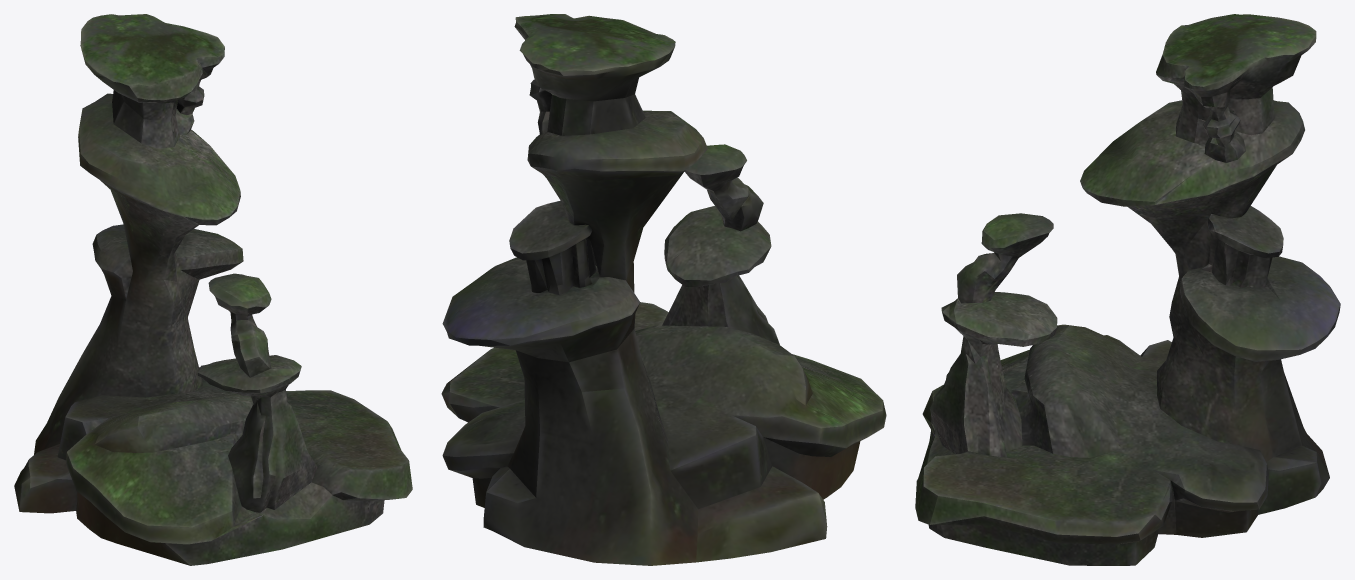
File: BGEAssetsS4.fbx
3 renders of one model, left to right at view 1: azimuth 30°, elevation 25°; view 2: azimuth 150°, elevation 25°; view 3: azimuth 270°, elevation 25°, orthographic. The views are drawn at different scales.
Visible parts, largest first — view 1: BGEAsset.013; view 2: BGEAsset.013; view 3: BGEAsset.013.
Boxes of the visible parts, left/top/right/bottom form: BGEAsset.013: left=14, top=14, right=412, bottom=565; BGEAsset.013: left=441, top=14, right=886, bottom=565; BGEAsset.013: left=915, top=14, right=1340, bottom=565.
Size of the model in its own units: 22.46 by 26.69 by 22.69.
1 material, 1 textured.
